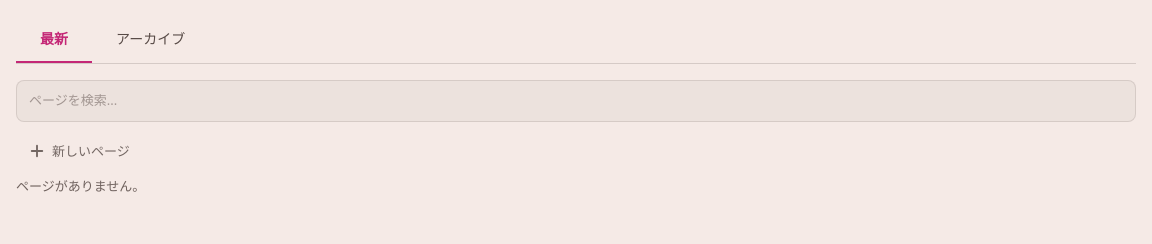
Test: Sidebar › tab switching › shows archive panel content when archive tab is active
Click the tab "アーカイブ": (151,40) [92,16,209,63]
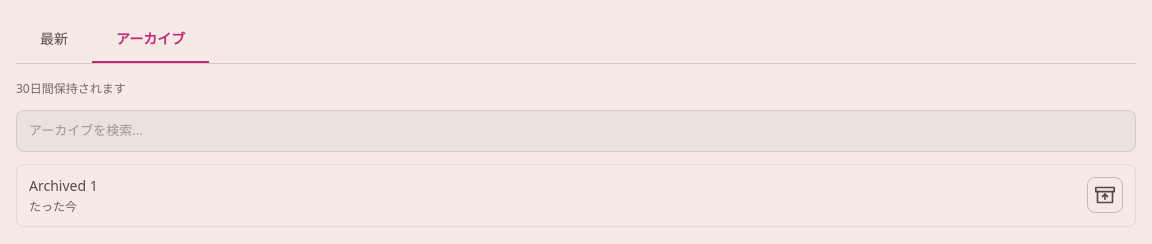
Now the text "30日間保持されます" is shown, box [16,80,126,97]
